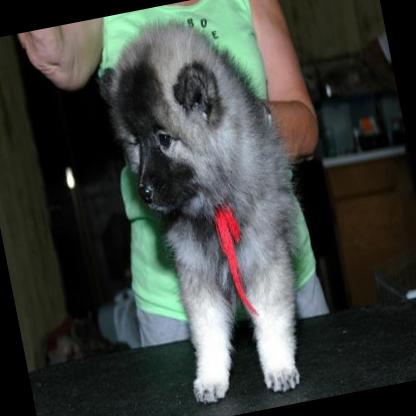keeshond: (83, 0, 331, 414)
